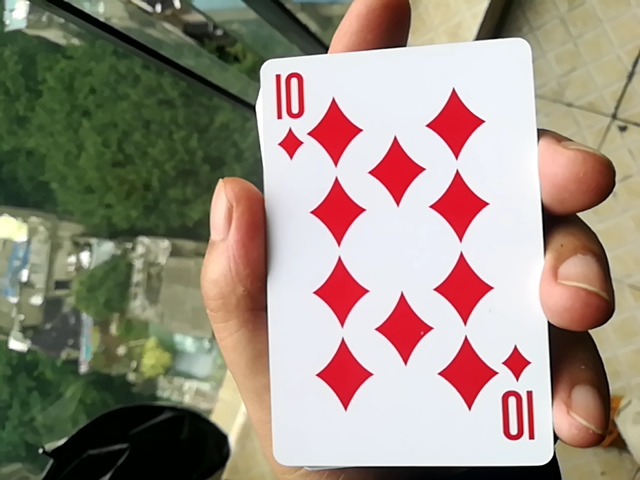fk 10: (248, 46, 560, 463)
